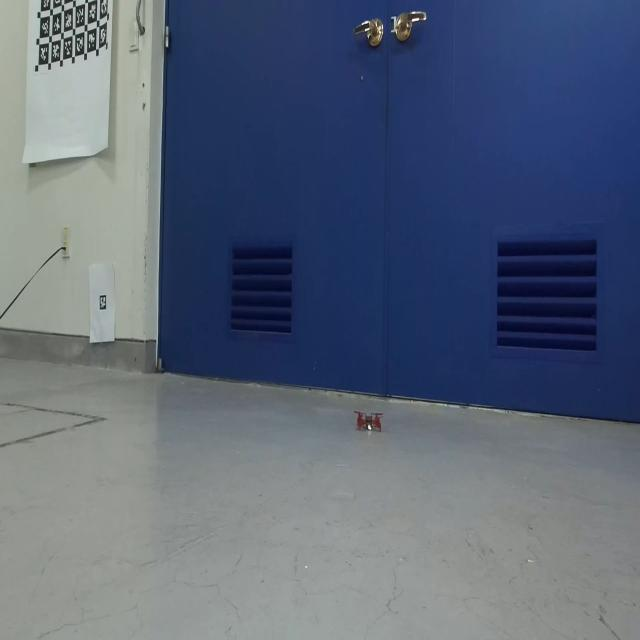crazyflie: (354, 408, 384, 434)
